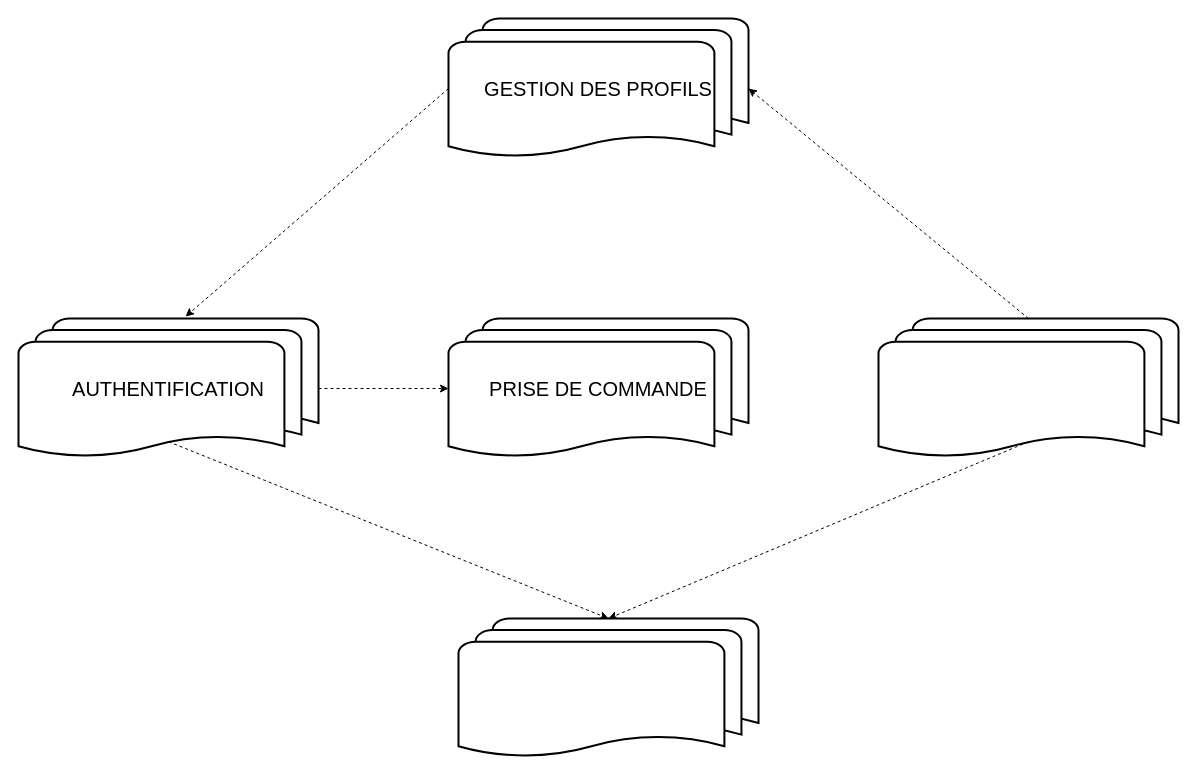
The diagram is 1196 pixels wide and 776 high, and some of its shapes have lost their labels. Each missing label, with the centre of its shape:
GESTION ADMINISTRATIVE: the point at 1028,388
GESTION DES COMMANDES, STOCKS & LIVRAISONS: the point at 608,688
